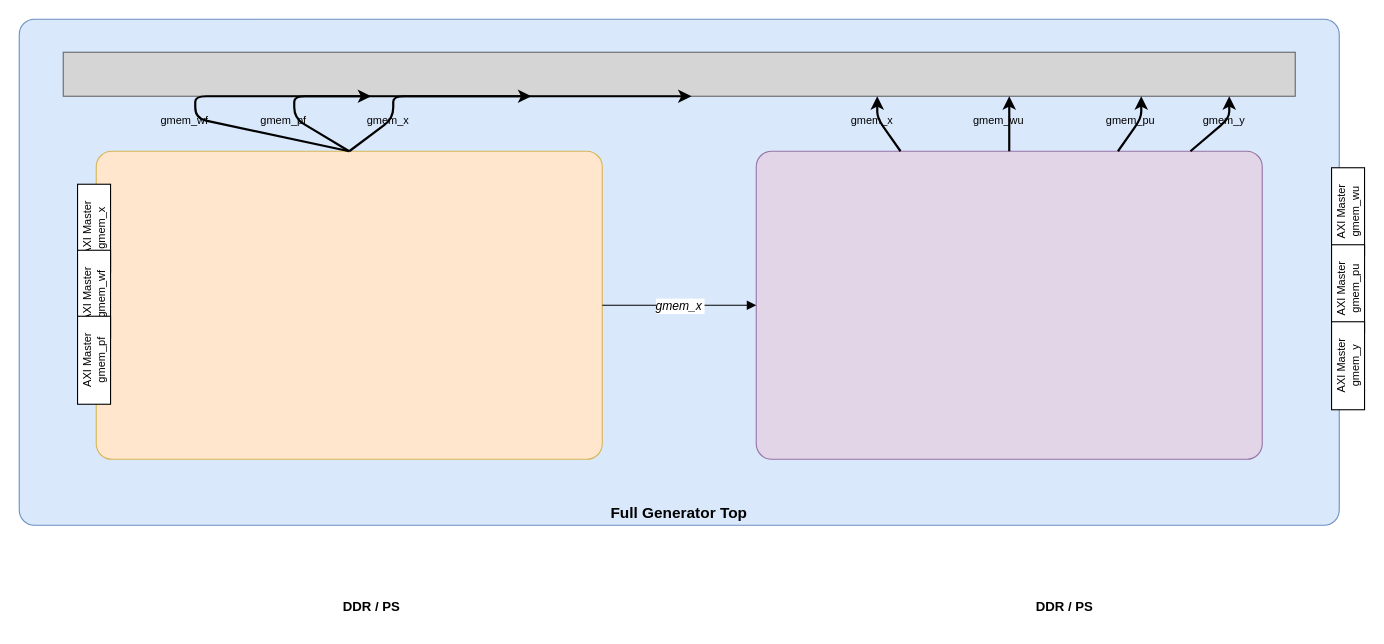
Image size: 1384x644. Some labels were removed from this diagram. Each missing label, with the centre of its shape:
AXI4 Interconnect: the point at 678,73
Fusion Core: the point at 348,304
UpConv Core: the point at 1008,304
